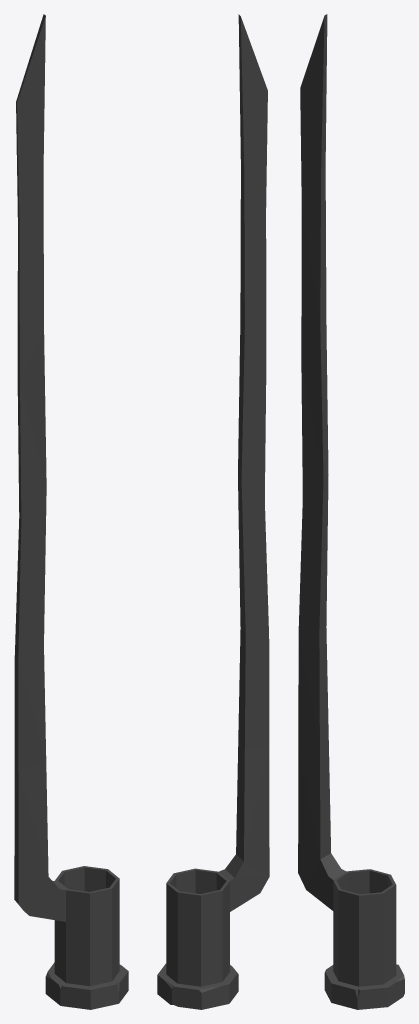
File: Baionnette.FBX
3 views of the same model, side by side, from view 1: azimuth 30°, elevation 25°; view 2: azimuth 210°, elevation 25°; view 3: azimuth 330°, elevation 25° (orthographic).
Parts seen in each view (by area): view 1: Baionnette; view 2: Baionnette; view 3: Baionnette.
Boxes of the visible parts, x1,y1,x2,y2 form: Baionnette: (14, 14, 128, 1009); Baionnette: (157, 14, 269, 1009); Baionnette: (298, 14, 404, 1009).
Size of the model in its own units: 4.29 by 39.66 by 2.85.
Materials: 1 (1 with a texture image).
